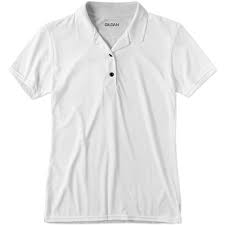C_polo shirt: (17, 5, 220, 223)
